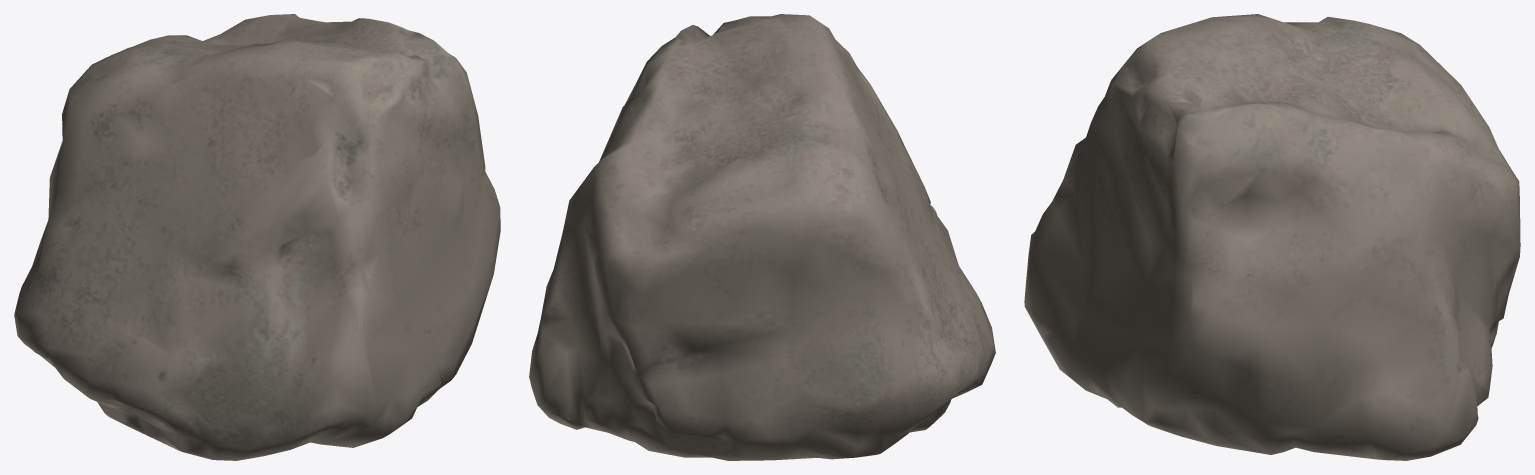
Rendered from moon_rock_02.slim.glb.
3 views of the same model, side by side, from view 1: azimuth 30°, elevation 25°; view 2: azimuth 150°, elevation 25°; view 3: azimuth 270°, elevation 25° (orthographic). The views are drawn at different scales.
Size of the model in its own units: 0.2452 by 0.2015 by 0.2513.
Materials: 1 (1 with a texture image).
